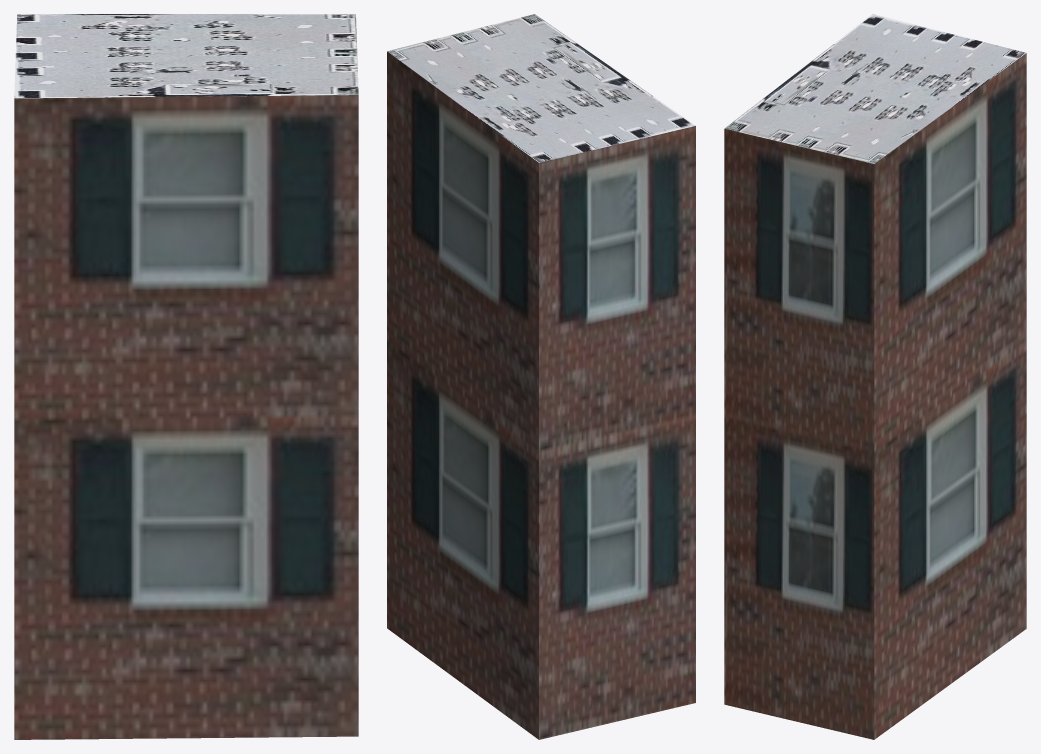
Rendered from ResTex__788.fbx.
The picture shows the model from 3 angles, left to right: view 1: azimuth 30°, elevation 25°; view 2: azimuth 150°, elevation 25°; view 3: azimuth 270°, elevation 25°; orthographic projection. The views are drawn at different scales.
Parts seen in each view (by area): view 1: CityEngineMaterial_14_m, CityEngineMaterial_4_m; view 2: CityEngineMaterial_14_m, CityEngineMaterial_4_m; view 3: CityEngineMaterial_14_m, CityEngineMaterial_4_m.
Part boxes in pixels (box(x1,y1,x2,y2)): CityEngineMaterial_14_m: box(14, 95, 358, 739); CityEngineMaterial_4_m: box(14, 14, 358, 98); CityEngineMaterial_14_m: box(387, 51, 695, 739); CityEngineMaterial_4_m: box(387, 14, 695, 162); CityEngineMaterial_14_m: box(724, 53, 1026, 739); CityEngineMaterial_4_m: box(725, 14, 1026, 163).
Bounding box in the file's own units: 3.35 × 6 × 2.86.
2 materials, 2 textured.
